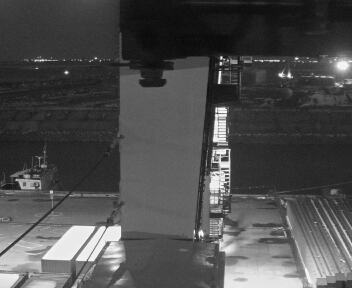twist_lock_1: (196, 146, 255, 191)
